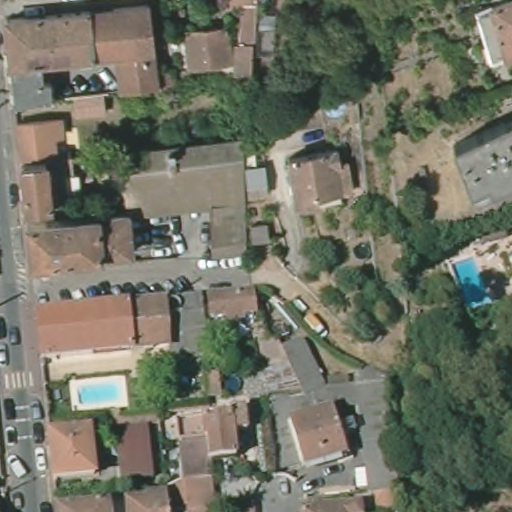pool: (451, 253, 494, 309), (72, 378, 127, 408)
